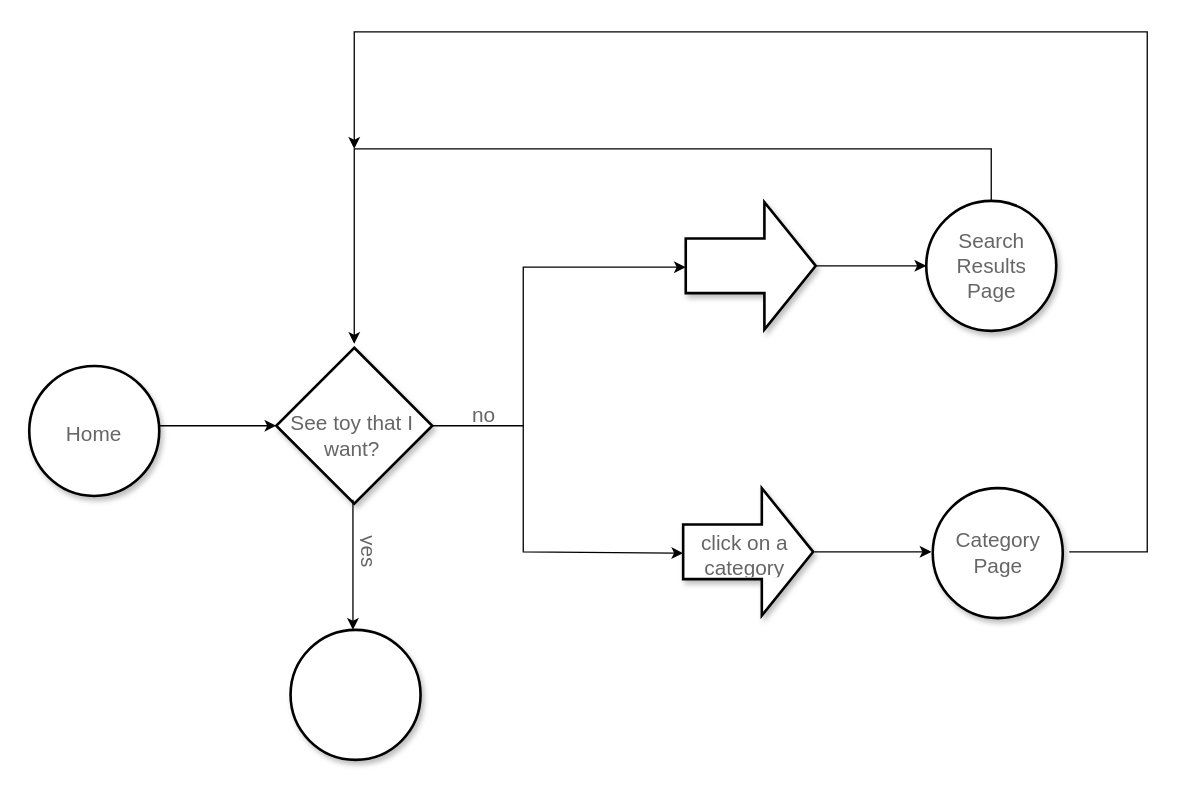
Some shapes in this 1180 by 793 pixel diagram are drawn without their labels. The shapes that lost their labels are listed below. From the top down, each one's centre as x and y in pixels, then its label:
At (751,267): "use search bar".
At (356,696): "Product Page".
